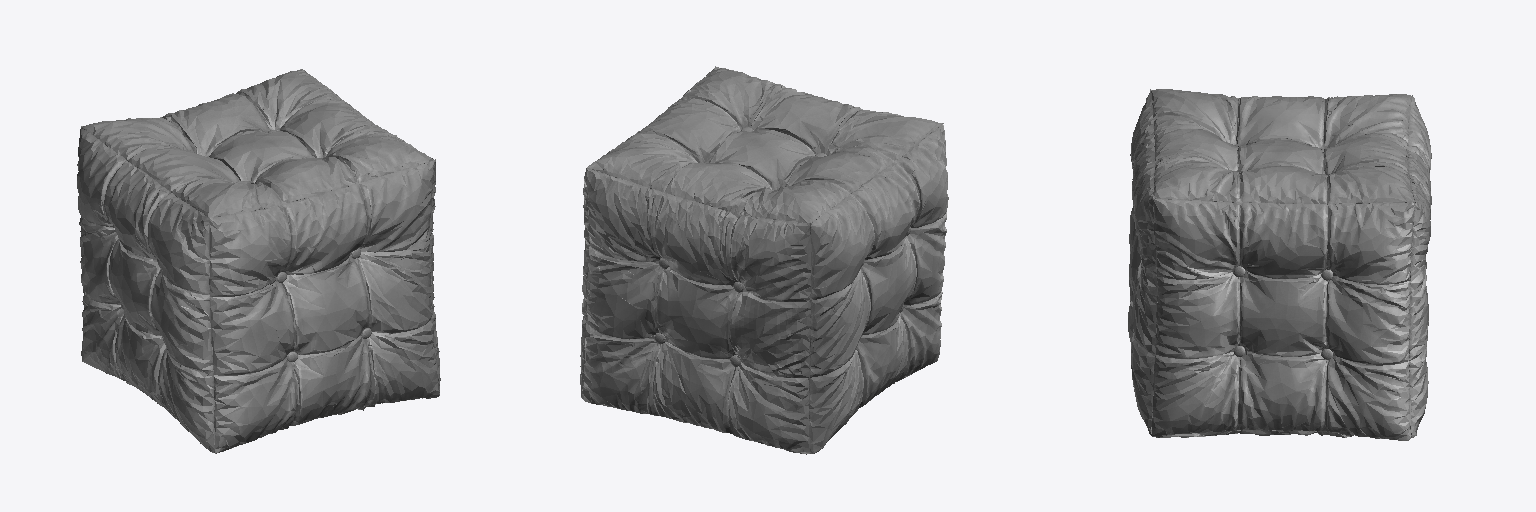
The picture shows the model from 3 angles: view 1: azimuth 30°, elevation 25°; view 2: azimuth 150°, elevation 25°; view 3: azimuth 270°, elevation 25°; orthographic projection.
Visible parts, largest first — view 1: solid_001; view 2: solid_001; view 3: solid_001.
Part boxes in pixels (x1,y1,x2,y2): solid_001: (77,69,440,453); solid_001: (580,66,948,454); solid_001: (1128,89,1431,440).
Bounding box in the file's own units: 1.42 × 1.29 × 1.4.
Materials: 1 (1 with a texture image).